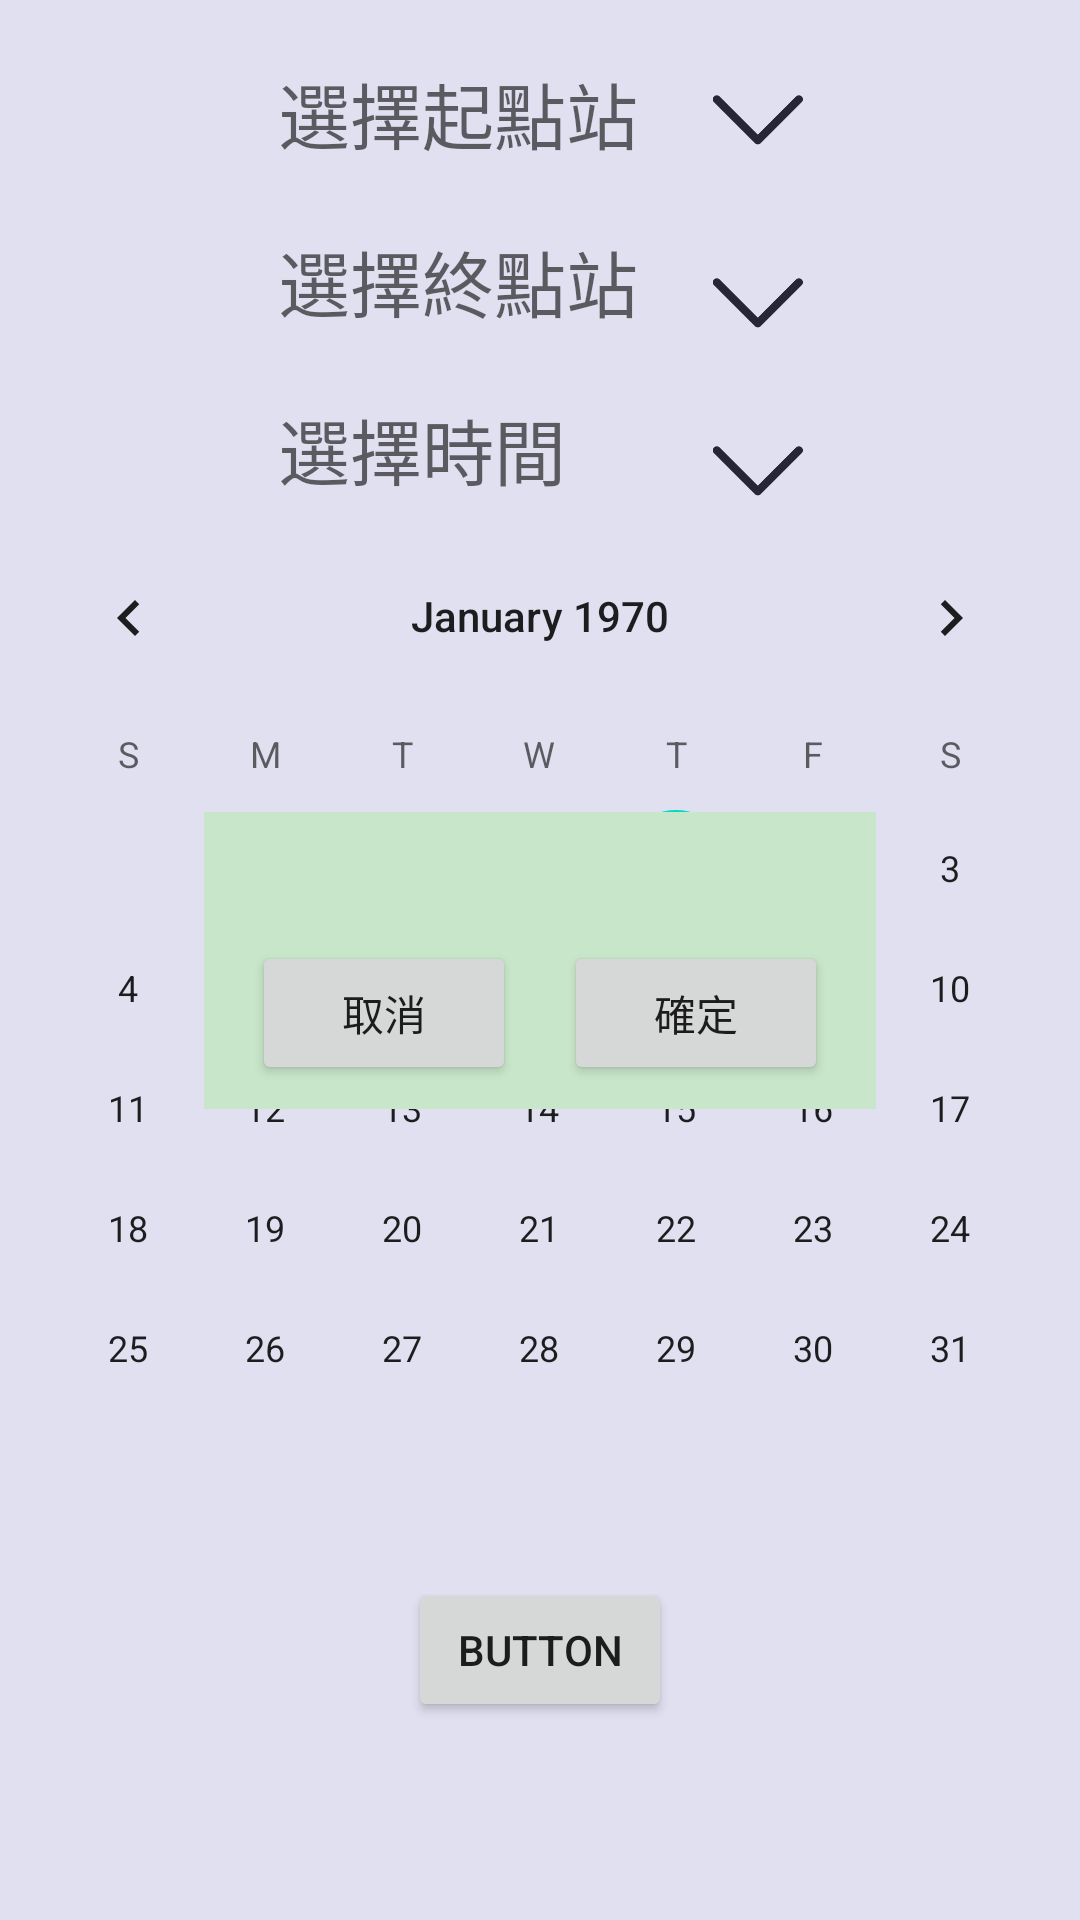

Icons on this 1080*1920 Android screen, each with its box as (x1, y1, x2, y2):
open: (713, 95, 803, 145), (713, 278, 803, 328), (713, 446, 803, 496)
